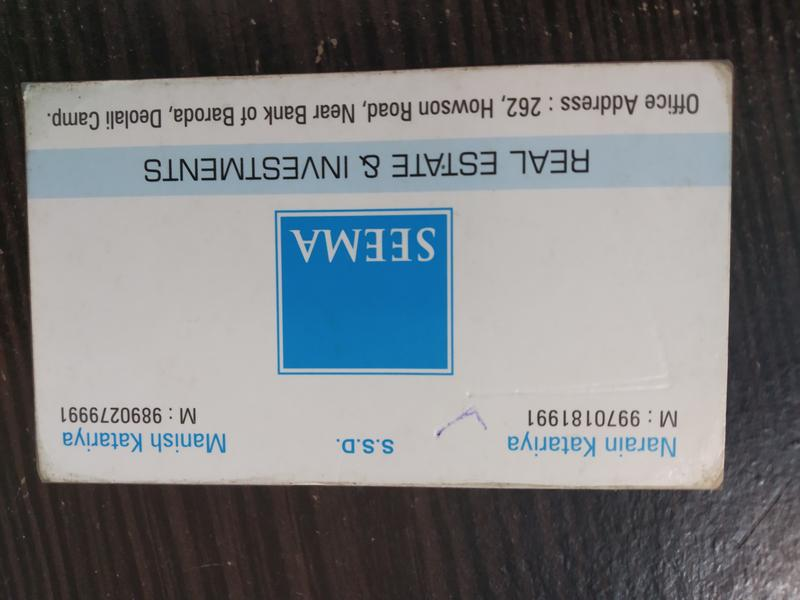card: (27, 68, 727, 491)
